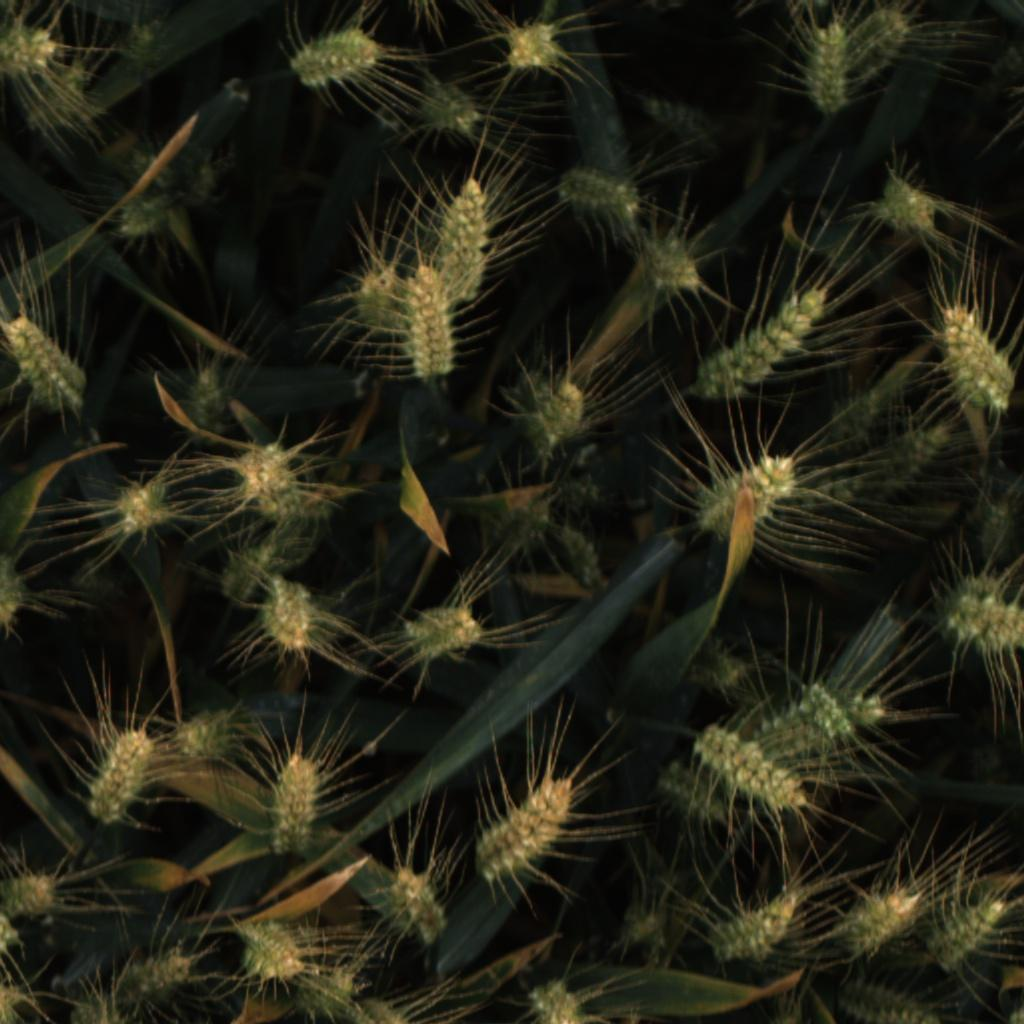0-0: (686, 281, 836, 404), (687, 713, 823, 813), (476, 774, 581, 888), (746, 689, 887, 771), (938, 291, 1024, 415), (0, 304, 90, 420), (391, 257, 465, 384), (696, 454, 798, 542), (837, 868, 928, 962), (708, 877, 800, 968), (863, 417, 952, 511), (22, 48, 104, 144), (442, 168, 500, 299), (168, 351, 242, 448), (546, 154, 644, 226), (930, 888, 1007, 978), (88, 726, 154, 827), (796, 14, 855, 126), (866, 166, 949, 244), (265, 752, 317, 873), (110, 467, 189, 546), (116, 939, 205, 1009), (207, 539, 285, 618), (387, 857, 453, 950), (288, 26, 383, 89), (856, 6, 928, 88), (259, 575, 330, 658), (823, 978, 947, 1024), (233, 909, 304, 986), (416, 71, 490, 144), (0, 11, 66, 90), (608, 892, 677, 967), (651, 758, 727, 826), (820, 376, 896, 444), (351, 252, 406, 344), (109, 185, 186, 250), (638, 91, 728, 146), (396, 604, 484, 659), (940, 568, 1006, 640), (496, 12, 565, 79), (525, 380, 585, 456), (681, 634, 750, 697), (631, 237, 705, 295), (790, 469, 886, 513), (974, 490, 1024, 569), (232, 441, 296, 502), (515, 974, 592, 1024), (959, 599, 1024, 656), (252, 483, 336, 526), (799, 679, 853, 742), (172, 709, 233, 764), (0, 865, 60, 920), (61, 983, 136, 1024), (295, 964, 351, 1018), (0, 548, 35, 632), (344, 995, 409, 1024), (120, 22, 163, 65), (512, 497, 551, 544), (179, 165, 218, 210), (562, 473, 603, 513), (514, 371, 554, 408), (0, 910, 20, 955), (0, 983, 20, 1024)
